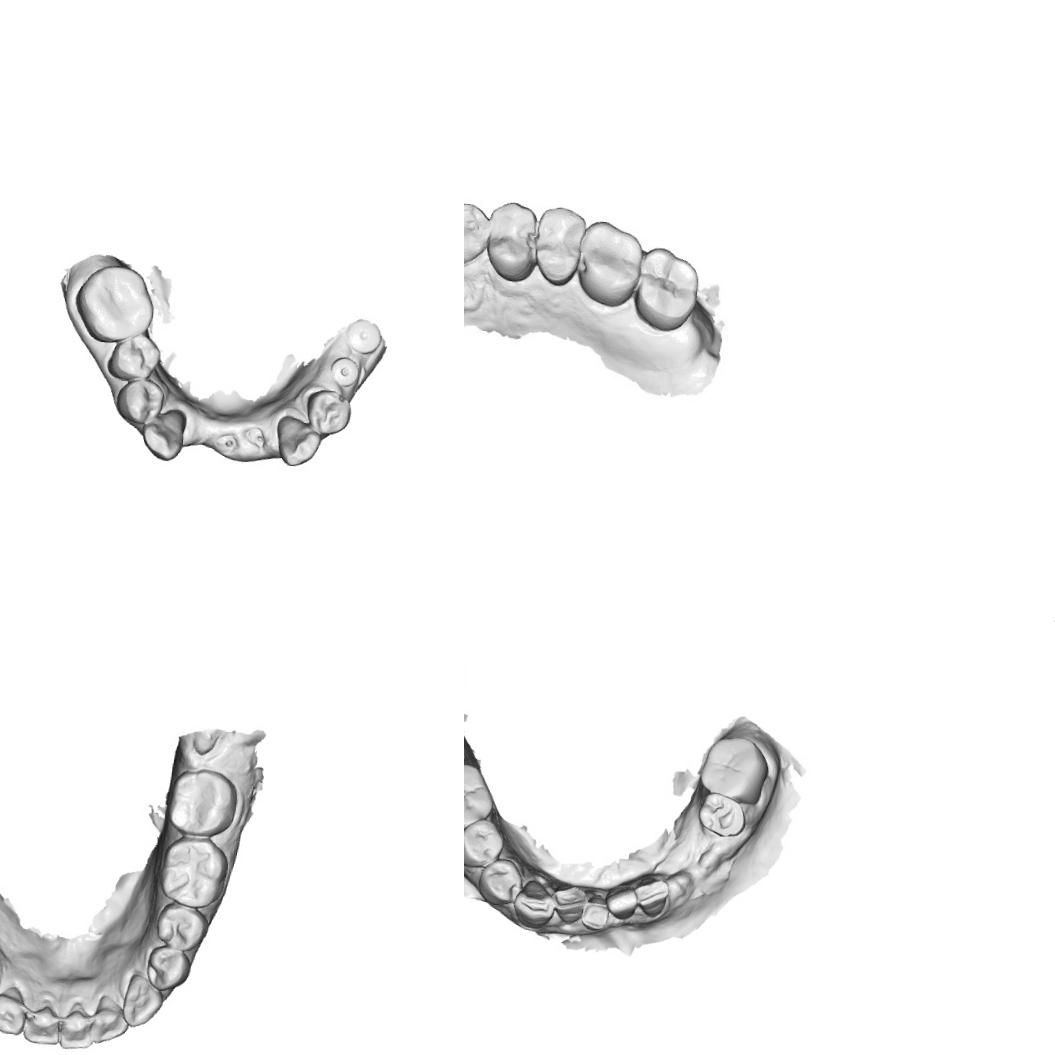canine: (138, 404, 188, 464), (118, 970, 166, 1030), (272, 412, 323, 468), (510, 876, 556, 930), (464, 197, 492, 266), (0, 981, 30, 1037)
implant: (343, 316, 383, 356), (328, 355, 362, 387)
incisor: (86, 994, 130, 1047), (55, 1002, 96, 1052), (19, 1002, 64, 1046), (630, 873, 670, 920), (550, 882, 587, 926), (602, 882, 640, 922), (578, 892, 613, 933)
molar: (70, 260, 158, 346), (628, 244, 700, 332), (572, 220, 643, 309), (156, 834, 232, 912), (163, 764, 241, 838), (695, 732, 772, 806), (464, 759, 494, 837)
premolar: (484, 198, 540, 283), (532, 200, 584, 288), (150, 898, 212, 951), (105, 330, 164, 382), (692, 788, 748, 841), (113, 376, 167, 428), (303, 386, 354, 438), (142, 941, 192, 994), (474, 854, 524, 907), (464, 813, 508, 872)
